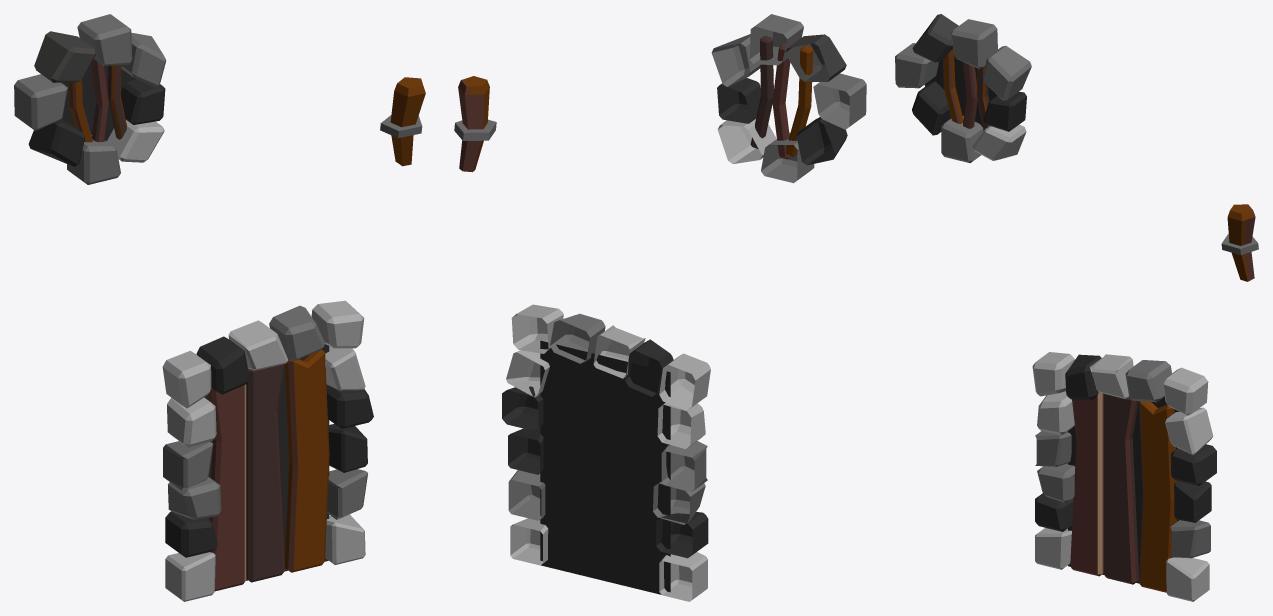
File: nivel 1.fbx
The picture shows the model from 3 angles, left to right: view 1: azimuth 30°, elevation 25°; view 2: azimuth 150°, elevation 25°; view 3: azimuth 330°, elevation 25°; orthographic projection. The views are drawn at different scales.
Parts seen in each view (by area): view 1: Cube.003, Cube.004, Cylinder; view 2: Cube.003, Cube.004, Cylinder; view 3: Cube.003, Cube.004, Cylinder.
Boxes of the visible parts, x1,y1,x2,y2 form: Cube.003: (162, 300, 373, 601); Cube.004: (14, 14, 166, 184); Cylinder: (380, 77, 425, 166); Cube.003: (502, 304, 710, 601); Cube.004: (711, 14, 866, 183); Cylinder: (454, 76, 496, 172); Cube.003: (1032, 352, 1216, 601); Cube.004: (895, 14, 1031, 163); Cylinder: (1221, 204, 1258, 281).
Bounding box in the file's own units: 2177 × 3095 × 240.
